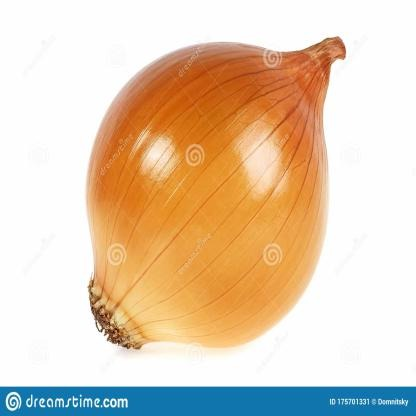onion: (88, 36, 346, 351), (0, 386, 416, 416)
